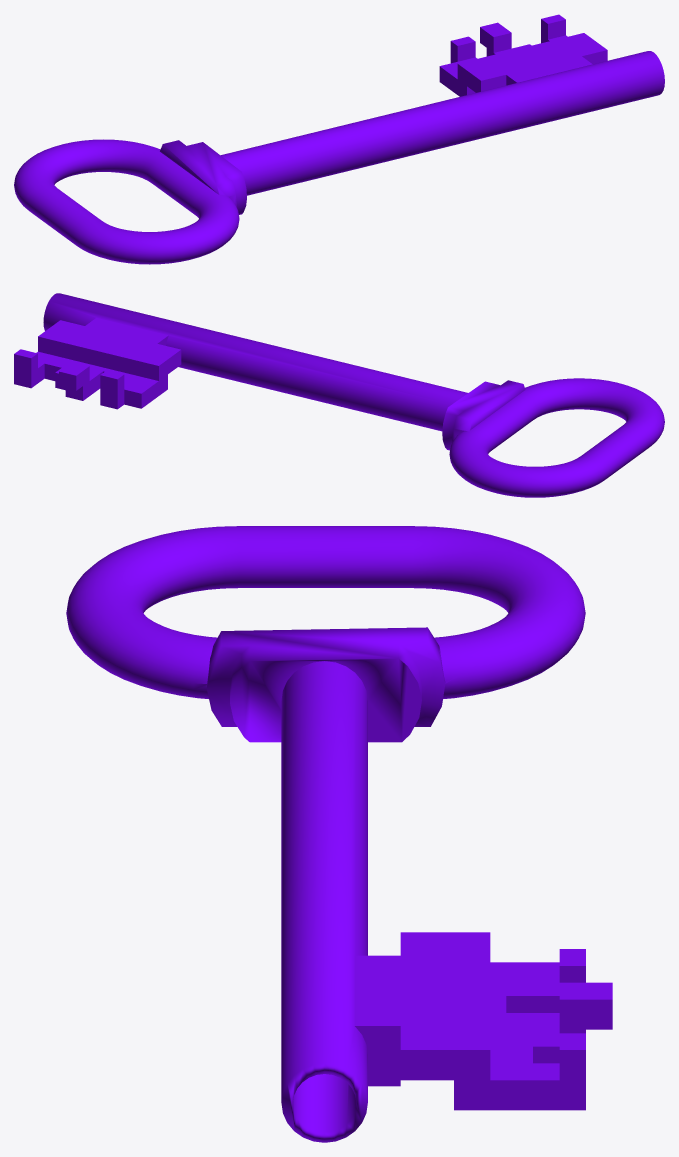
File: purple key.fbx
3 views of the same model, one above another, from view 1: azimuth 30°, elevation 25°; view 2: azimuth 150°, elevation 25°; view 3: azimuth 270°, elevation 25° (orthographic). The views are drawn at different scales.
Parts seen in each view (by area): view 1: Group1; view 2: Group1; view 3: Group1.
Part boxes in pixels (box(x1,y1,x2,y2)): Group1: box(14, 14, 664, 264); Group1: box(14, 293, 664, 497); Group1: box(66, 526, 612, 1142).
Bounding box in the file's own units: 7.39 × 0.516 × 3.03.
